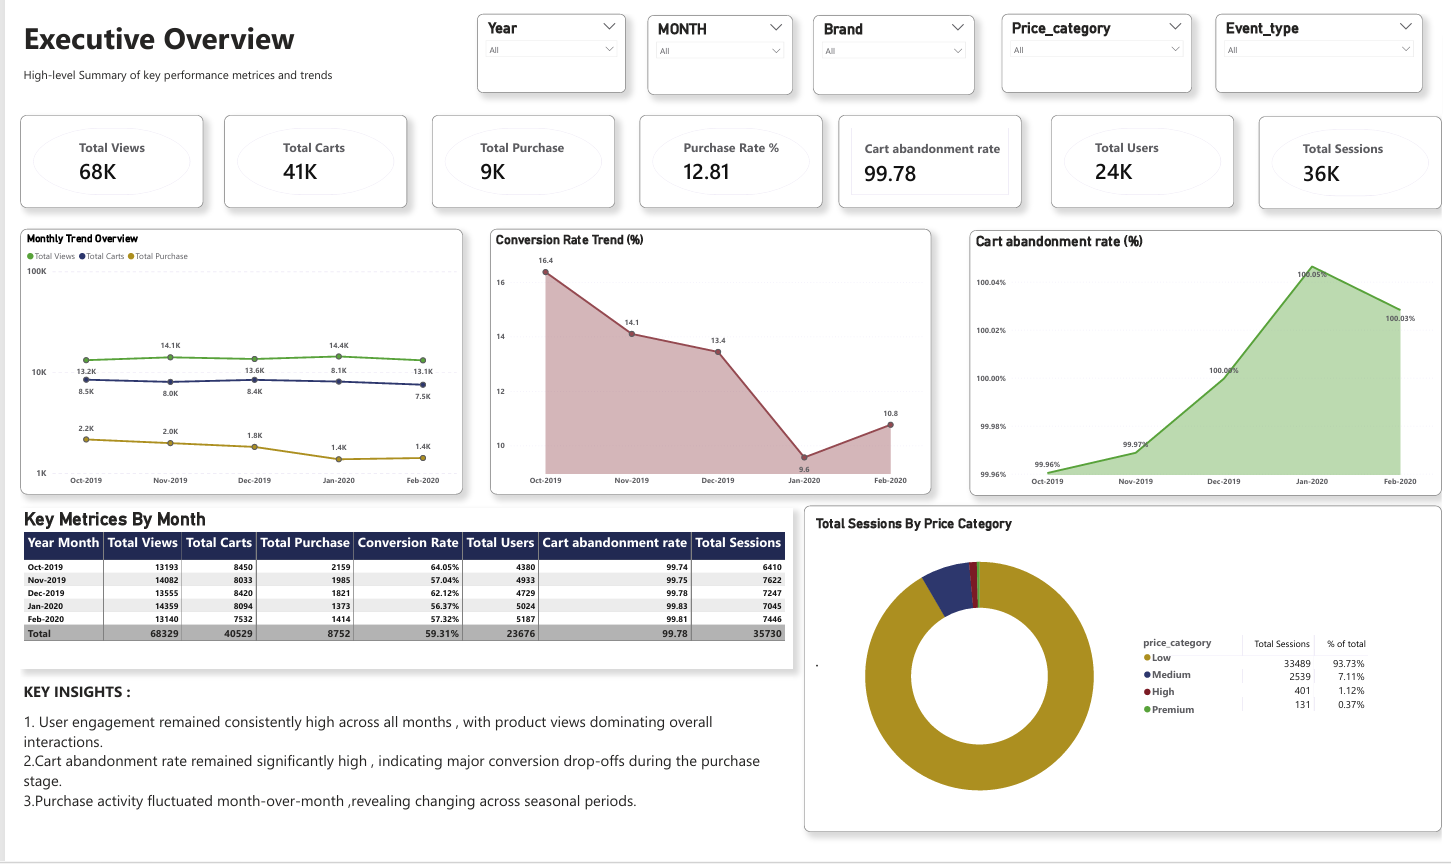

This screenshot's page, from the dashboard's own definition file:
{"tool":"powerbi","page":{"name":"Executive Overview","canvas":[2300,1350],"ordinal":0},"visuals":[{"type":"tableEx","fields":{"Values":["fact_user_events.price_category","fact_user_events.Total Sessions","Divide(fact_user_events.Total Sessions, ScopedEval(fact_user_events.Total Sessions, []))"]},"box":[1850,1002,360,262],"z":0},{"type":"textbox","box":[0,0,582,128],"z":1000},{"type":"slicer","fields":{"Values":["fact_user_events.Year"]},"box":[739.4,0,240.2,128.3],"z":2000},{"type":"slicer","fields":{"Values":["fact_user_events.month_name"]},"box":[1014.6,2.3,235.6,128.3],"z":3000},{"type":"slicer","fields":{"Values":["fact_user_events.brand"]},"box":[1282.8,2.3,261.2,128.3],"z":4000},{"type":"lineChart","title":"Monthly Trend Overview","fields":{"Category":["fact_user_events.year_month"],"Y":["fact_user_events.Total Views","fact_user_events.Total Cart","fact_user_events.Total Purchase"]},"box":[0,348,716,430],"z":5000},{"type":"areaChart","title":"Conversion Rate Trend (%)","fields":{"Category":["fact_user_events.year_month"],"Y":["fact_user_events.Purchase Rate %"]},"box":[760,348,714,430],"z":6000},{"type":"areaChart","title":"Cart abandonment rate (%)","fields":{"Y":["fact_user_events.Cart abandonment %"],"Category":["fact_user_events.year_month"]},"box":[1536,350,764,430],"z":7000},{"type":"slicer","fields":{"Values":["fact_user_events.price_category"]},"box":[1588.4,0,307.9,128.3],"z":8000},{"type":"cardVisual","title":"TOTAL VIEWS","fields":{"Data":["fact_user_events.Total Views"]},"box":[0,164,296,150],"z":9000},{"type":"cardVisual","title":"TOTAL VIEWS","fields":{"Data":["fact_user_events.Total Carts"]},"box":[330,164,296,150],"z":10000},{"type":"cardVisual","title":"TOTAL VIEWS","fields":{"Data":["fact_user_events.Total Purchase"]},"box":[666,164,296,150],"z":11000},{"type":"cardVisual","title":"TOTAL VIEWS","fields":{"Data":["fact_user_events.Purchase Rate %"]},"box":[1002,164,296,150],"z":12000},{"type":"cardVisual","title":"TOTAL VIEWS","fields":{"Data":["fact_user_events.Cart abandonment %"]},"box":[1324,164,296,150],"z":13000},{"type":"cardVisual","title":"TOTAL VIEWS","fields":{"Data":["fact_user_events.Total Users"]},"box":[1668,164,296,150],"z":14000},{"type":"cardVisual","title":"TOTAL VIEWS","fields":{"Data":["fact_user_events.Total Sessions"]},"box":[2004,166,296,150],"z":15000},{"type":"slicer","fields":{"Values":["fact_user_events.event_type"]},"box":[1933.6,0,335.9,128.3],"z":16000},{"type":"tableEx","title":"Key Metrices By Month","fields":{"Values":["fact_user_events.year_month","fact_user_events.Total Views","fact_user_events.Total Carts","fact_user_events.Total Purchase","fact_user_events.Viwe  to cart conversion %","fact_user_events.Total Users","fact_user_events.Cart abandonment %","fact_user_events.Total Sessions"]},"box":[0,800,1250,260],"z":17000},{"type":"donutChart","title":"Total Sessions By Price Category","fields":{"Y":["fact_user_events.Total Sessions"],"Category":["fact_user_events.price_category"]},"box":[1282,812,674,496],"z":18000},{"type":"textbox","box":[1268,796,1032,528],"z":19000},{"type":"textbox","box":[0,1074,1250,250],"z":20000}]}

Visuals, with their boxes in screenshot pixels (x1, y1, x2, y2), scaled from the page's 2300x1350 canvas onto the 1451x864 screenshot:
tableEx - fact_user_events.price_category x fact_user_events.Total Sessions: (x1=1167, y1=641, x2=1394, y2=809)
textbox: (x1=0, y1=0, x2=367, y2=82)
slicer - fact_user_events.Year: (x1=466, y1=0, x2=618, y2=82)
slicer - fact_user_events.month_name: (x1=640, y1=1, x2=789, y2=84)
slicer - fact_user_events.brand: (x1=809, y1=1, x2=974, y2=84)
"Monthly Trend Overview" lineChart: (x1=0, y1=223, x2=452, y2=498)
"Conversion Rate Trend (%)" areaChart: (x1=479, y1=223, x2=930, y2=498)
"Cart abandonment rate (%)" areaChart: (x1=969, y1=224, x2=1450, y2=499)
slicer - fact_user_events.price_category: (x1=1002, y1=0, x2=1196, y2=82)
"TOTAL VIEWS" cardVisual: (x1=0, y1=105, x2=187, y2=201)
"TOTAL VIEWS" cardVisual: (x1=208, y1=105, x2=395, y2=201)
"TOTAL VIEWS" cardVisual: (x1=420, y1=105, x2=607, y2=201)
"TOTAL VIEWS" cardVisual: (x1=632, y1=105, x2=819, y2=201)
"TOTAL VIEWS" cardVisual: (x1=835, y1=105, x2=1022, y2=201)
"TOTAL VIEWS" cardVisual: (x1=1052, y1=105, x2=1239, y2=201)
"TOTAL VIEWS" cardVisual: (x1=1264, y1=106, x2=1450, y2=202)
slicer - fact_user_events.event_type: (x1=1220, y1=0, x2=1432, y2=82)
"Key Metrices By Month" tableEx: (x1=0, y1=512, x2=789, y2=678)
"Total Sessions By Price Category" donutChart: (x1=809, y1=520, x2=1234, y2=837)
textbox: (x1=800, y1=509, x2=1450, y2=847)
textbox: (x1=0, y1=687, x2=789, y2=847)
